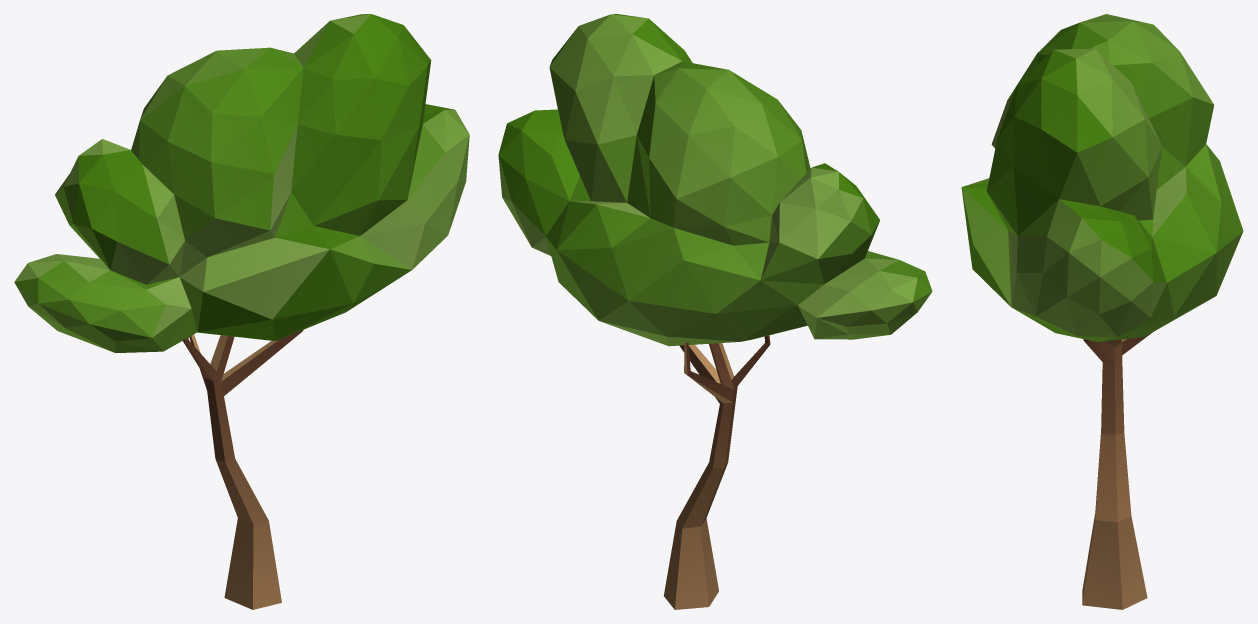
Rendered from TreeGreen.fbx.
3 views of the same model, side by side, from view 1: azimuth 30°, elevation 25°; view 2: azimuth 150°, elevation 25°; view 3: azimuth 270°, elevation 25° (orthographic). The views are drawn at different scales.
Visible parts, largest first — view 1: TreeGreen_LOD0; view 2: TreeGreen_LOD0; view 3: TreeGreen_LOD0.
Boxes of the visible parts, x1=… form: TreeGreen_LOD0: x1=14, y1=14, x2=469, y2=609; TreeGreen_LOD0: x1=498, y1=14, x2=932, y2=609; TreeGreen_LOD0: x1=961, y1=14, x2=1243, y2=609.
Size of what is drawn, in the model's own units: 452 by 560 by 242.
